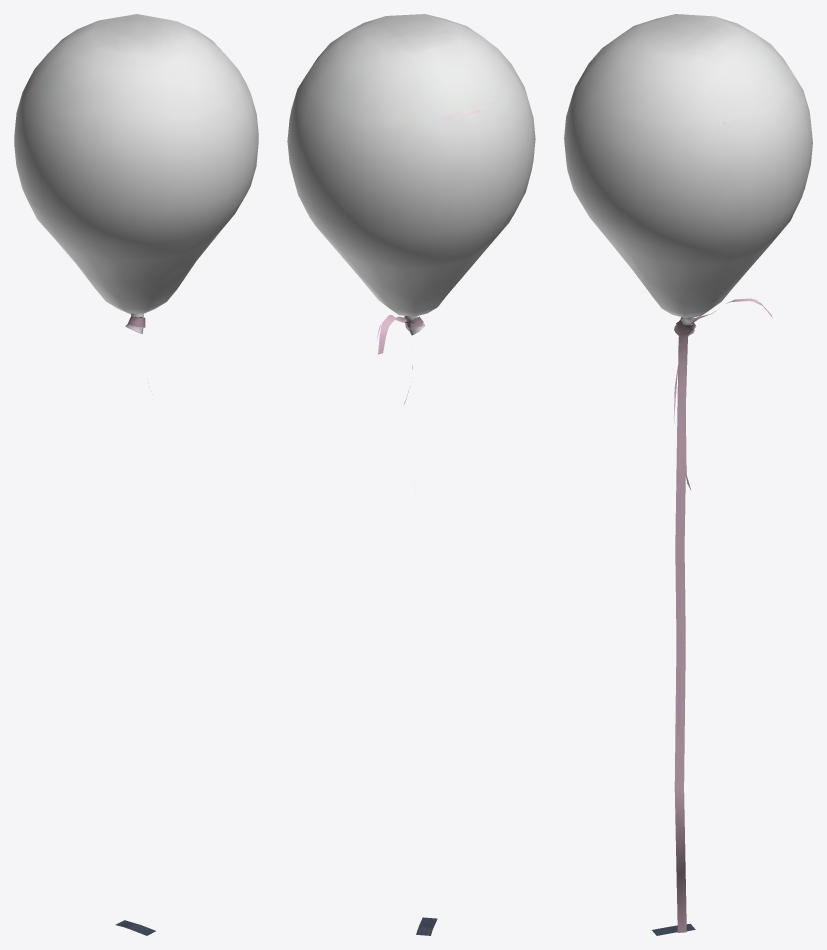
Rendered from latex_balloon.deployed.glb.
3 renders of one model, left to right at view 1: azimuth 30°, elevation 25°; view 2: azimuth 150°, elevation 25°; view 3: azimuth 270°, elevation 25°, orthographic.
Parts seen in each view (by area): view 1: latex_balloon_LOD0; view 2: latex_balloon_LOD0; view 3: latex_balloon_LOD0.
Boxes of the visible parts, <box> form: latex_balloon_LOD0: <box>14,14,258,935</box>; latex_balloon_LOD0: <box>287,14,535,935</box>; latex_balloon_LOD0: <box>564,14,812,935</box>.
Size of the model in its own units: 0.4352 by 1.75 by 0.4352.
Materials: 1 (1 with a texture image).
